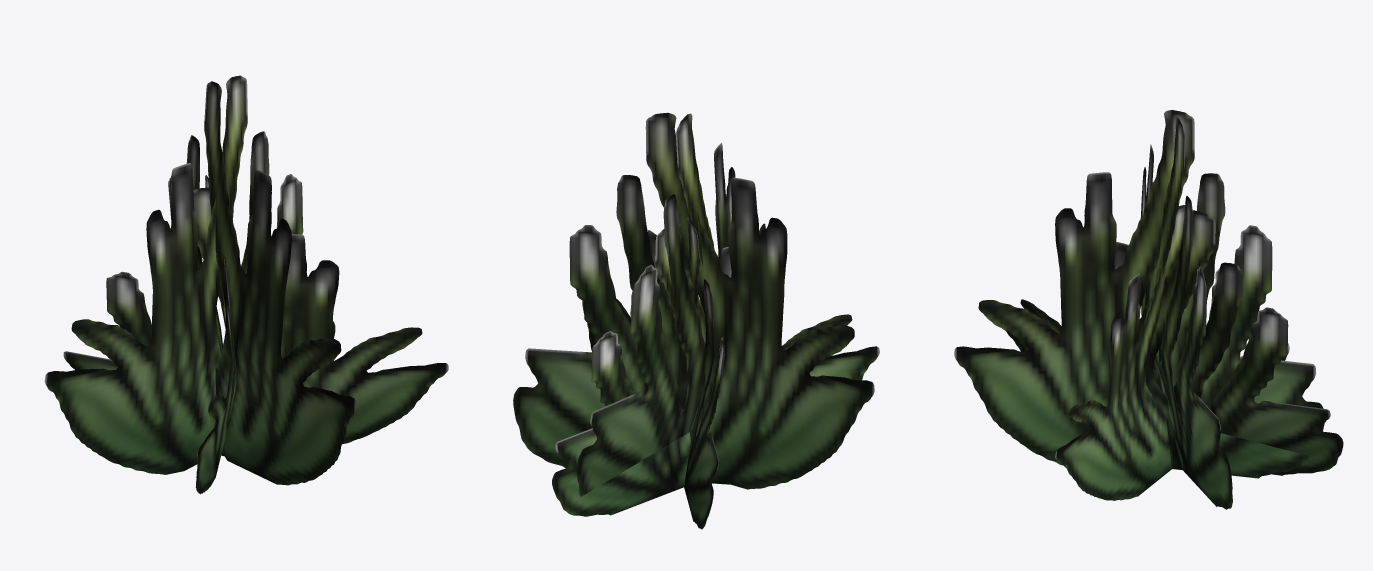
Rendered from JoyFlowers.fbx.
3 renders of one model, left to right at view 1: azimuth 30°, elevation 25°; view 2: azimuth 150°, elevation 25°; view 3: azimuth 270°, elevation 25°, orthographic. The views are drawn at different scales.
Visible parts, largest first — view 1: JoyFlowers; view 2: JoyFlowers; view 3: JoyFlowers.
Part boxes in pixels (x1,y1,x2,y2): JoyFlowers: (44, 75, 448, 494); JoyFlowers: (513, 112, 879, 529); JoyFlowers: (954, 110, 1343, 509).
Size of the model in its own units: 439 by 400 by 423.
1 material, 1 textured.
